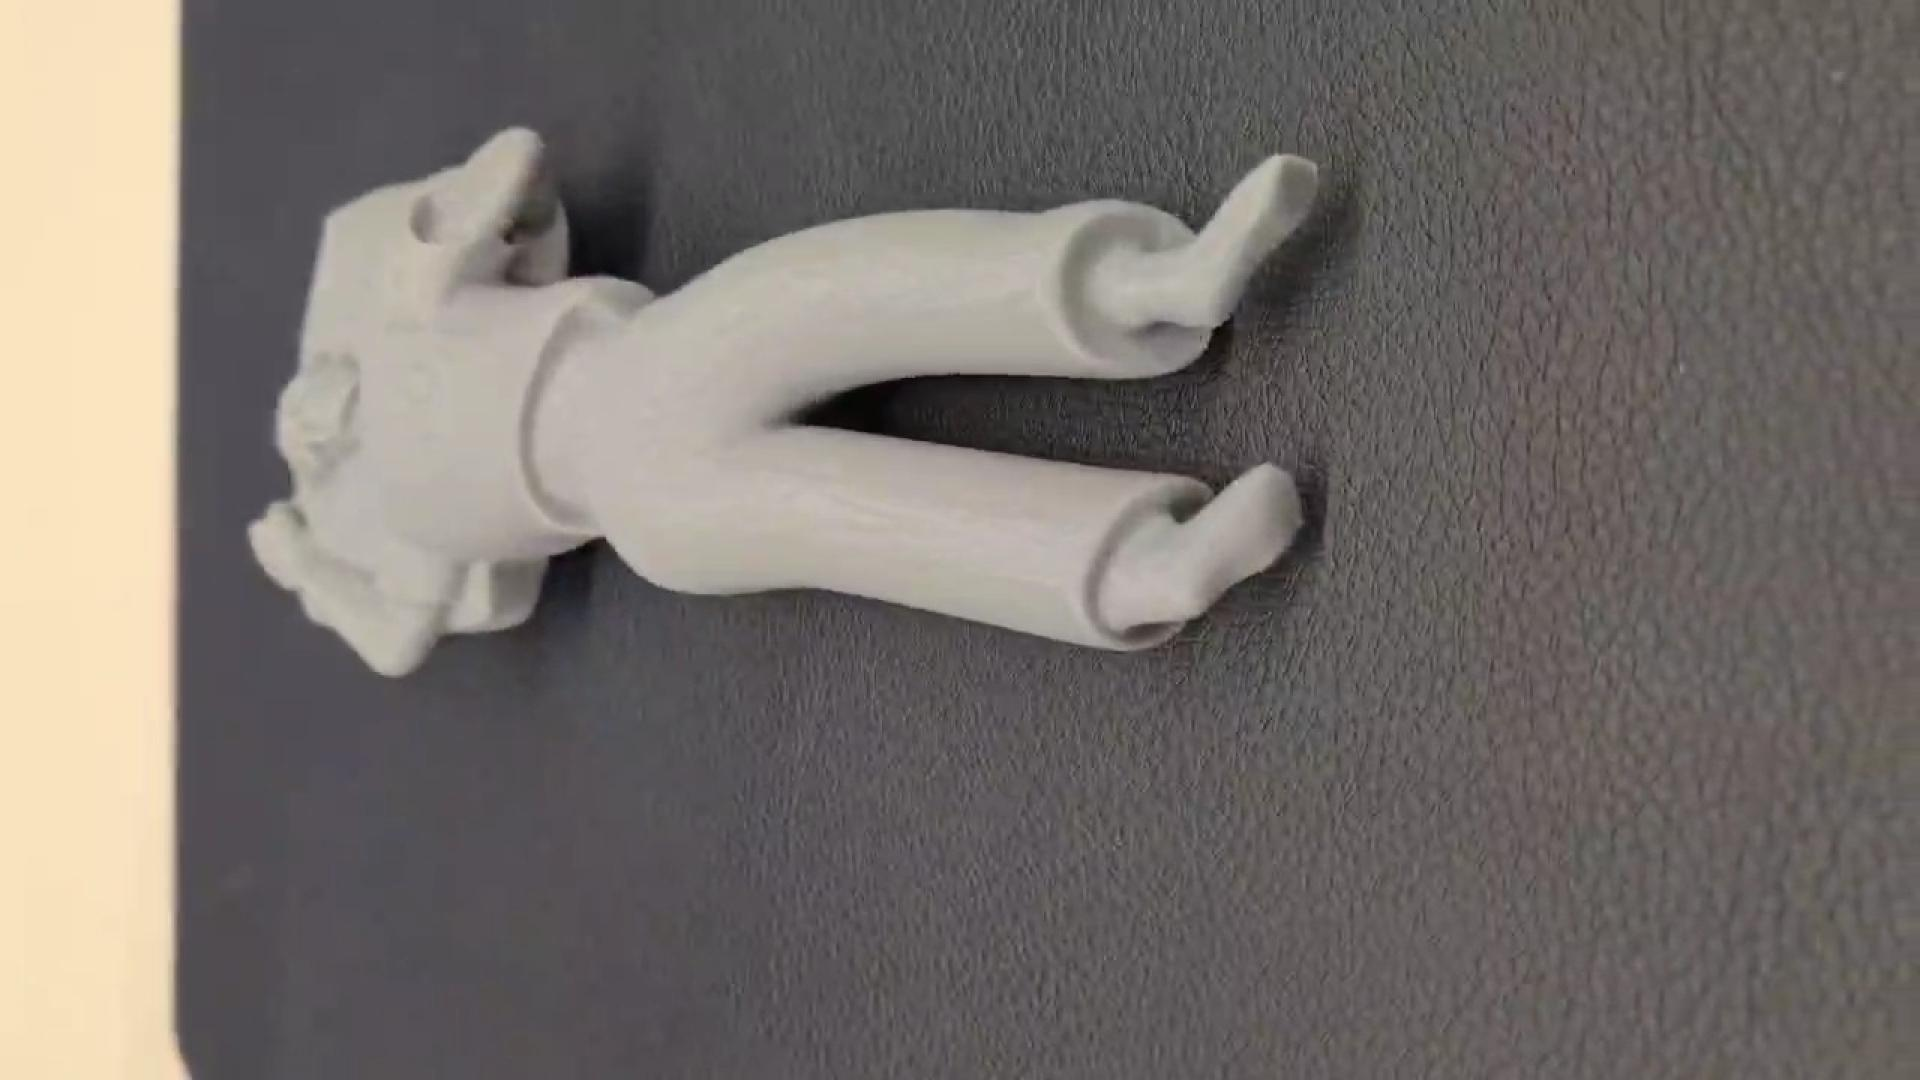Bad-style: (239, 121, 1329, 676)
